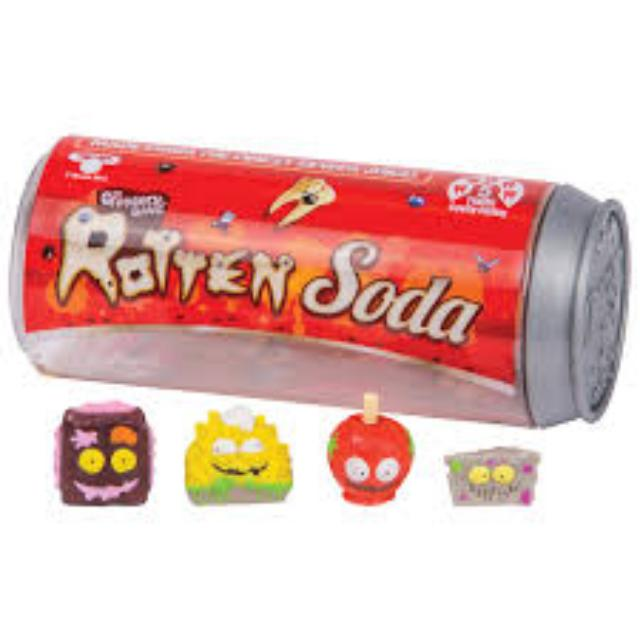metal: (9, 134, 623, 421)
